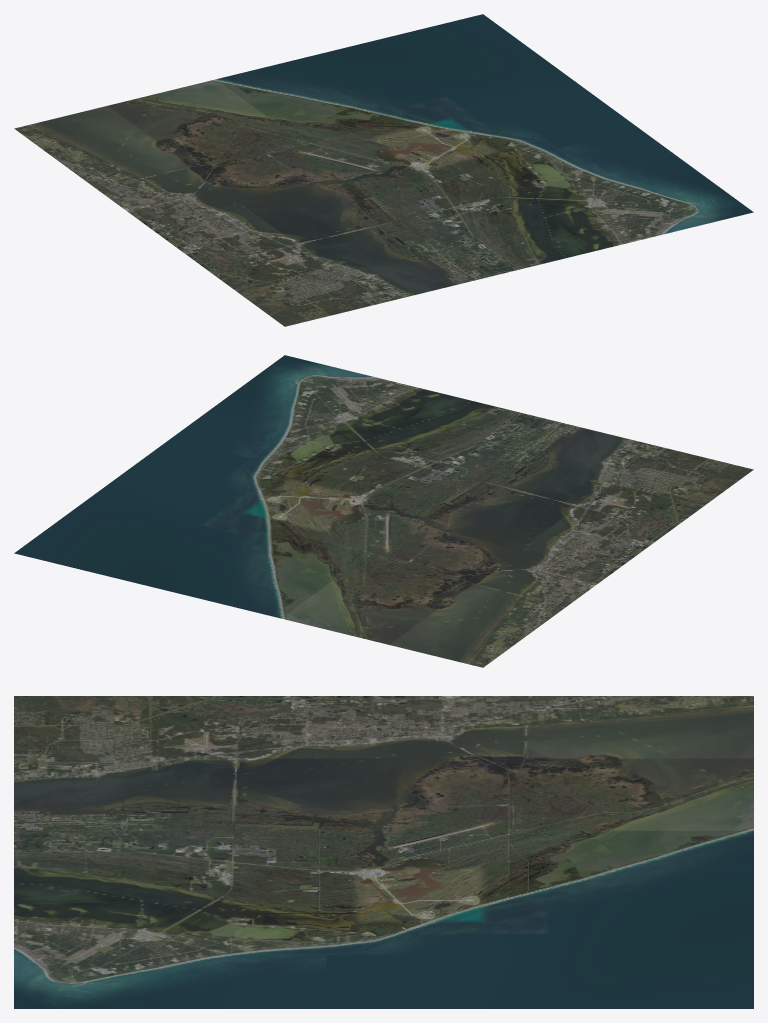
Rendered from jugre_launch_complex.glb.
3 renders of one model, top to bottom at view 1: azimuth 30°, elevation 25°; view 2: azimuth 150°, elevation 25°; view 3: azimuth 270°, elevation 25°, orthographic. The views are drawn at different scales.
Parts seen in each view (by area): view 1: kennedy_aerial_region, kennedy_aerial_campus, kennedy_aerial_facilities; view 2: kennedy_aerial_region, kennedy_aerial_campus, kennedy_aerial_facilities; view 3: kennedy_aerial_region, kennedy_aerial_campus, kennedy_aerial_facilities.
Boxes of the visible parts, box(x1,y1,x2,y2) form: kennedy_aerial_region: box(14, 14, 753, 326); kennedy_aerial_campus: box(298, 95, 533, 195); kennedy_aerial_facilities: box(364, 116, 503, 174); kennedy_aerial_region: box(14, 355, 753, 667); kennedy_aerial_campus: box(198, 462, 434, 562); kennedy_aerial_facilities: box(238, 476, 377, 534); kennedy_aerial_region: box(14, 696, 753, 1008); kennedy_aerial_campus: box(314, 835, 550, 935); kennedy_aerial_facilities: box(350, 865, 489, 923).
Size of what is drawn, in the model's own units: 35000 by 185 by 35000.
Materials: 42 (4 with a texture image).
